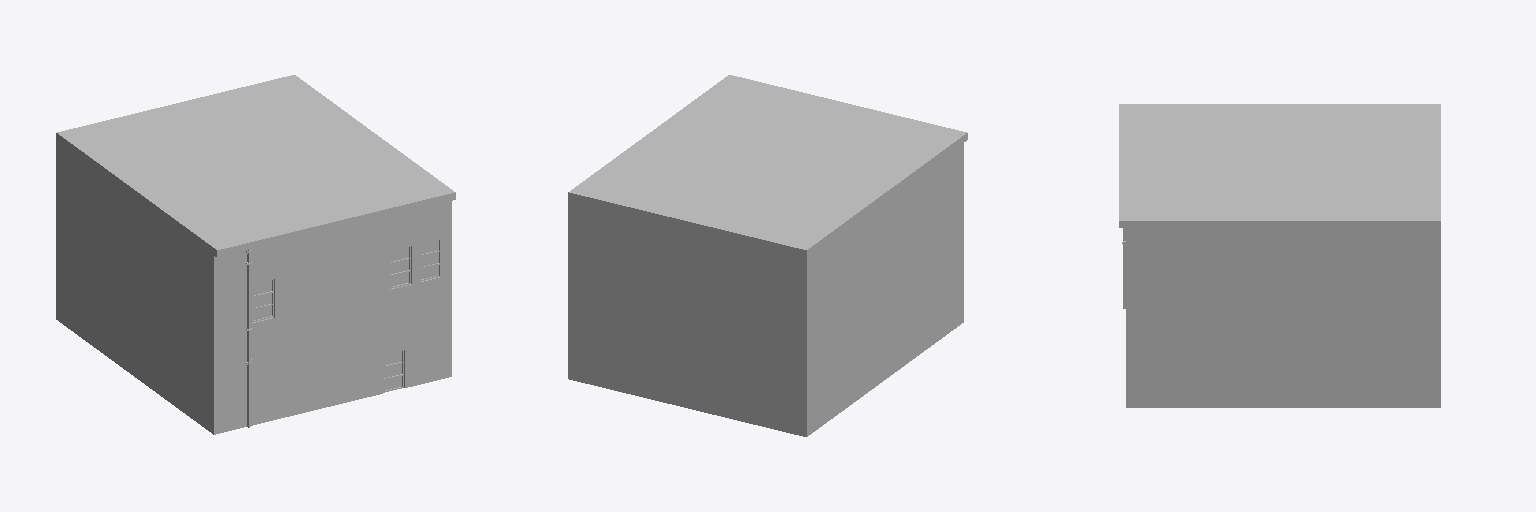
Rendered from Building 7.3.obj.
The picture shows the model from 3 angles: view 1: azimuth 30°, elevation 25°; view 2: azimuth 150°, elevation 25°; view 3: azimuth 270°, elevation 25°; orthographic projection.
Visible parts, largest first — view 1: object 1; view 2: object 1; view 3: object 1.
Part boxes in pixels (x1,y1,x2,y2): object 1: (56,75,455,434); object 1: (568,75,967,436); object 1: (1119,104,1440,407).
Bounding box in the file's own units: 20 × 15 × 23.4.